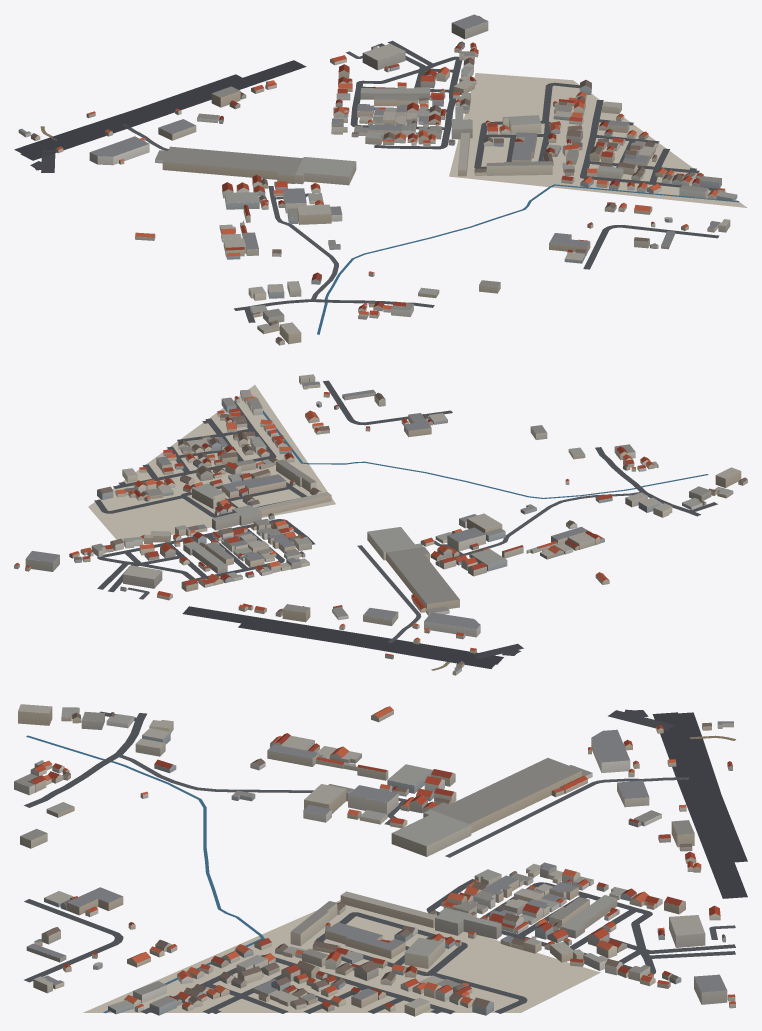
3 renders of one model, top to bottom at view 1: azimuth 30°, elevation 25°; view 2: azimuth 150°, elevation 25°; view 3: azimuth 270°, elevation 25°, orthographic. The views are drawn at different scales.
Parts seen in each view (by area): view 1: buildings_roofs, buildings_walls, roads, landuse, water; view 2: buildings_roofs, buildings_walls, roads, landuse, water; view 3: buildings_roofs, buildings_walls, roads, landuse, water.
Part boxes in pixels (x1,y1,x2,y2): buildings_roofs: (19,14,736,341); buildings_walls: (18,17,737,345); roads: (14,40,719,322); landuse: (449,73,747,207); water: (317,184,739,334); buildings_roofs: (15,374,747,672); buildings_walls: (14,376,747,675); roads: (94,380,717,670); landuse: (88,385,335,541); water: (252,396,708,498); buildings_roofs: (14,704,735,1010); buildings_walls: (14,707,735,1016); roads: (24,709,747,1014); landuse: (83,900,600,1012); water: (26,735,264,1013).
Bounding box in the file's own units: 512 × 9.85 × 518.
